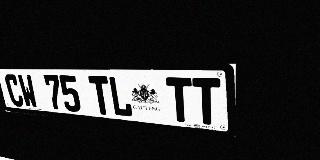5: (58, 75, 82, 113)
7: (42, 75, 65, 111)
C: (3, 74, 25, 107)
L: (108, 76, 133, 117)
T: (192, 78, 221, 126), (166, 77, 193, 123), (88, 76, 113, 115)
W: (17, 74, 39, 108)
